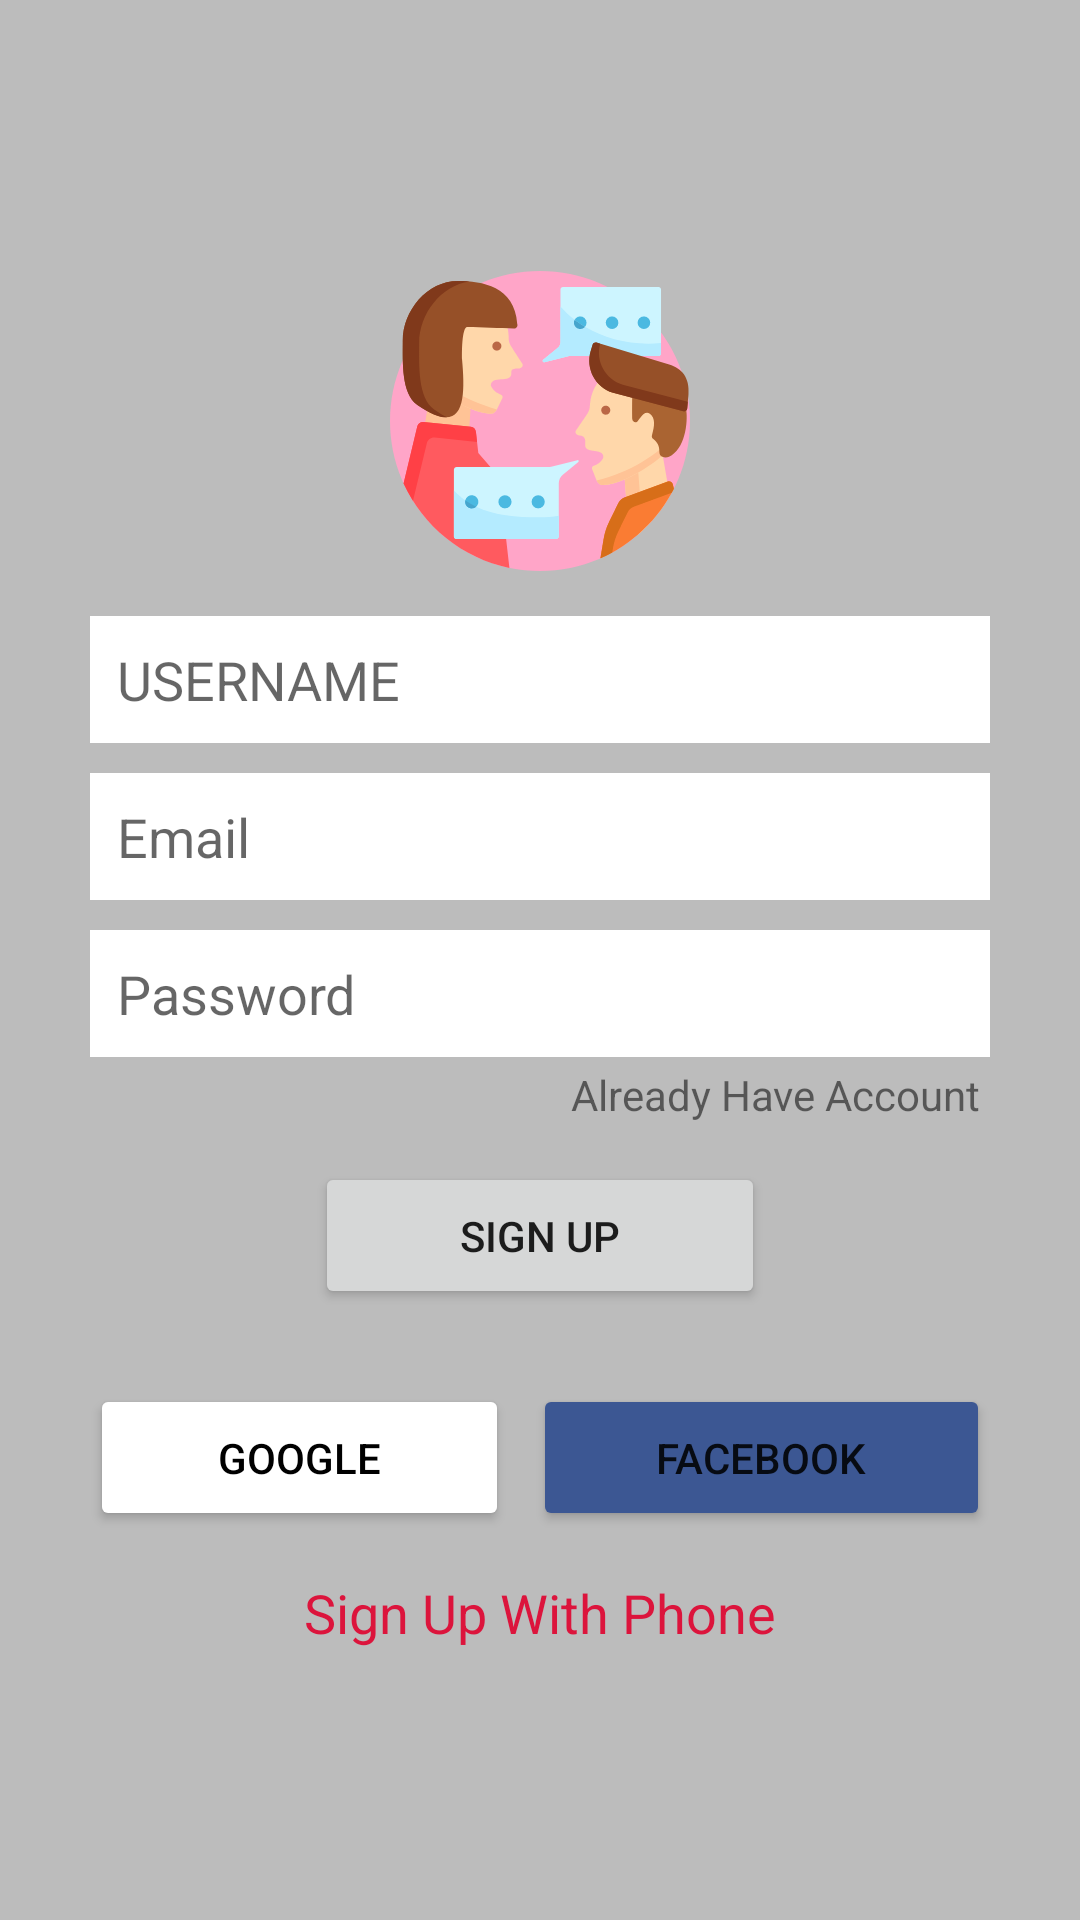

Icon bounding boxes for this 1080×1920 phone screenshot, format (x1, y1, x2, y2):
chat: (390, 271, 690, 571)
